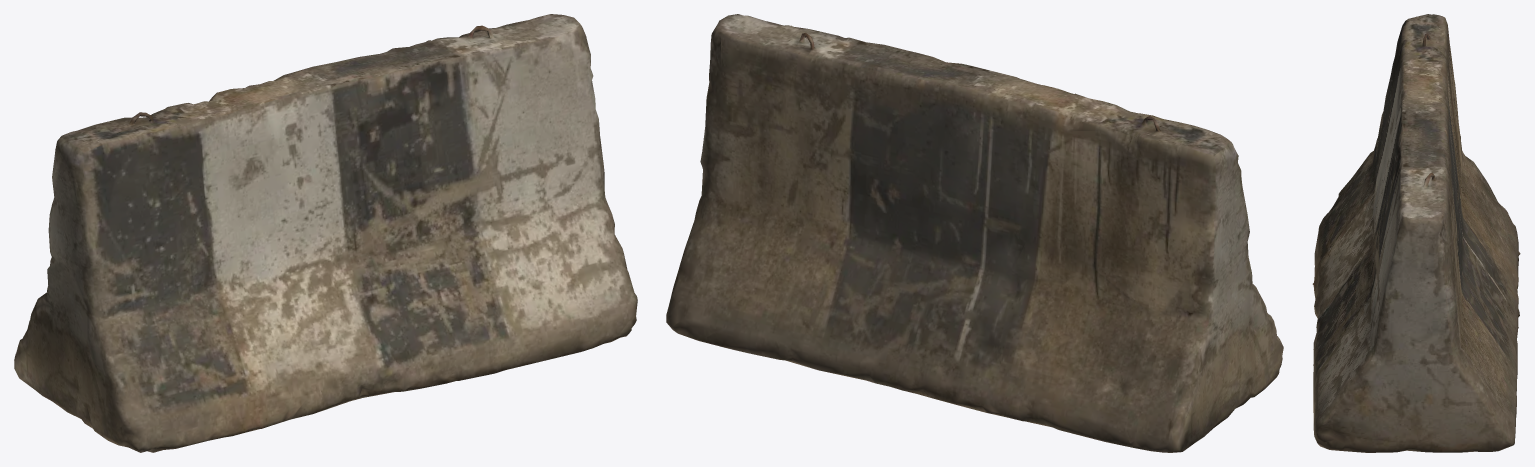
File: barrier.glb
The picture shows the model from 3 angles, left to right: view 1: azimuth 30°, elevation 25°; view 2: azimuth 150°, elevation 25°; view 3: azimuth 270°, elevation 25°; orthographic projection. The views are drawn at different scales.
Visible parts, largest first — view 1: concrete_road_barrier; view 2: concrete_road_barrier; view 3: concrete_road_barrier.
Boxes of the visible parts, box(x1,y1,x2,y2) form: concrete_road_barrier: box(14, 14, 637, 452); concrete_road_barrier: box(666, 14, 1283, 452); concrete_road_barrier: box(1312, 14, 1520, 452).
Size of the model in its own units: 1.54 by 0.8304 by 0.6387.
1 material, 1 textured.
